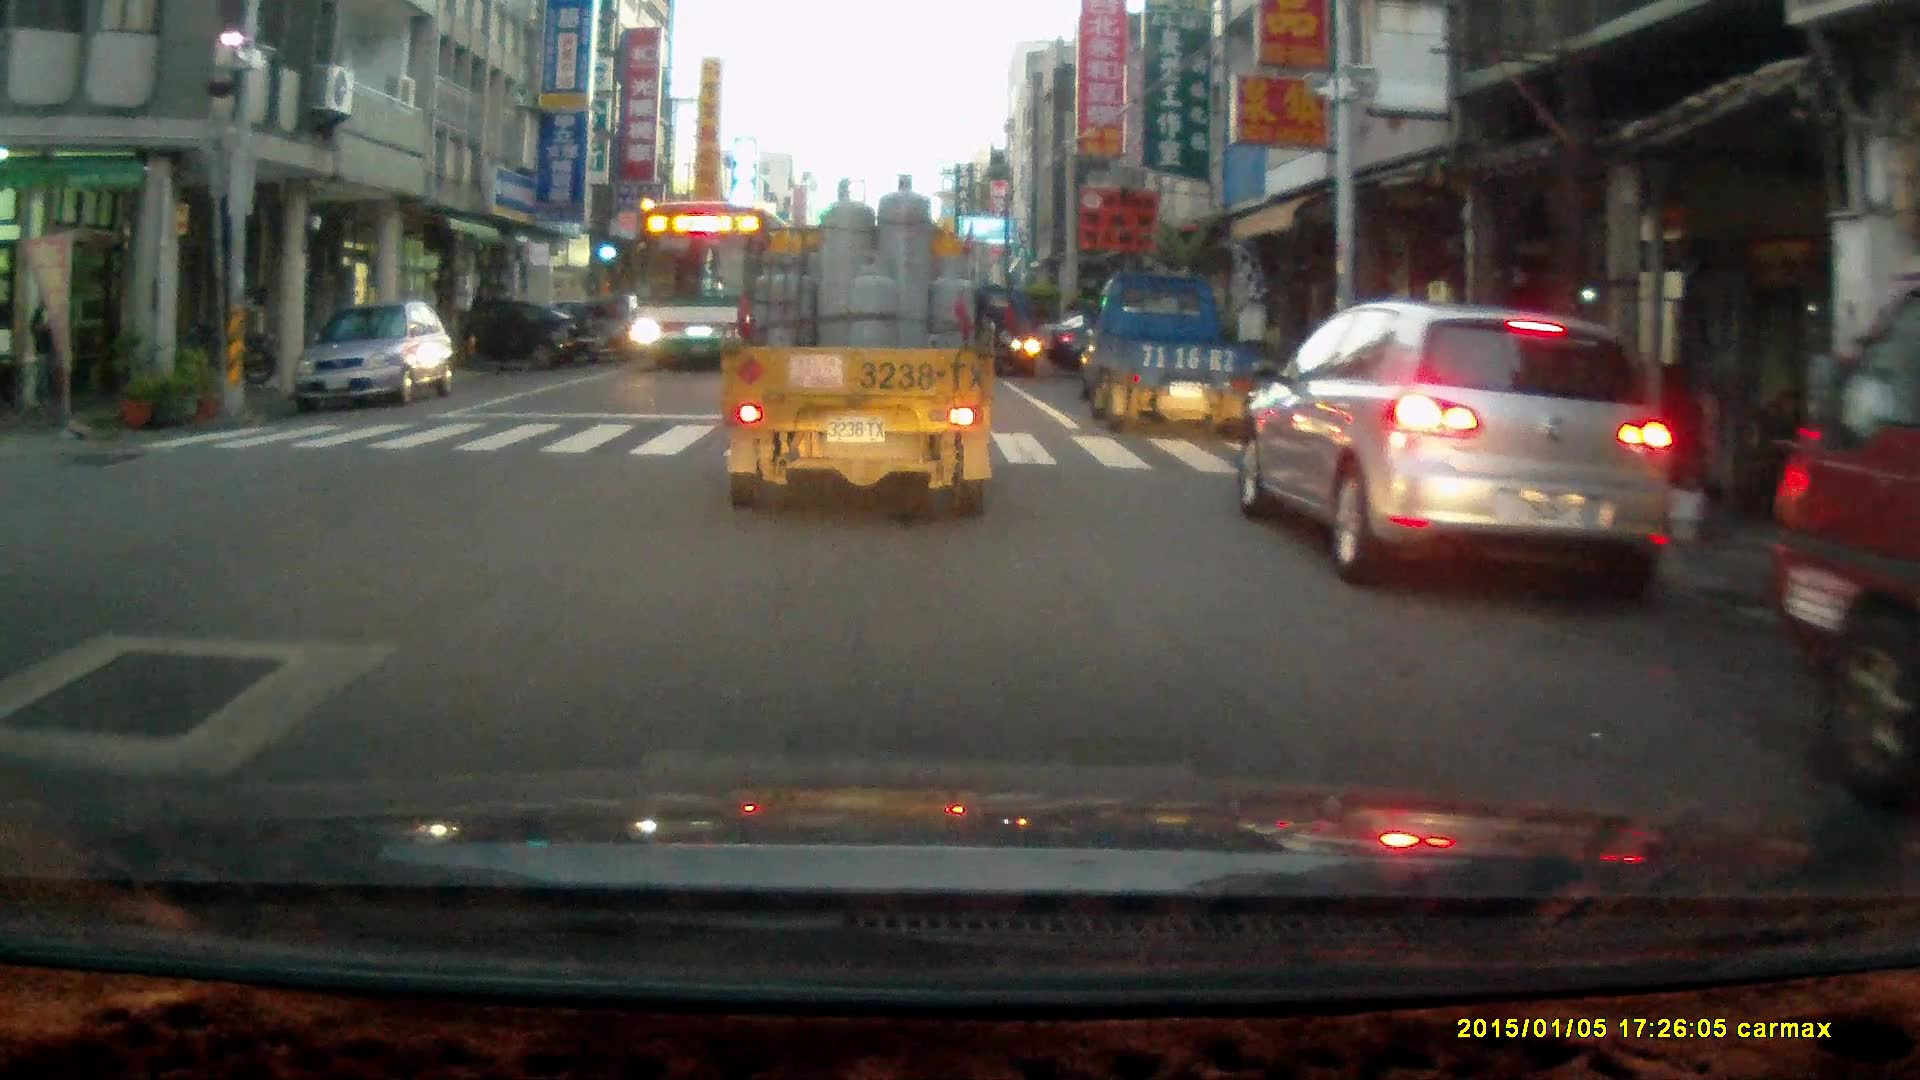pedestrian: (28, 281, 62, 418), (996, 293, 1021, 372)
vehicle: (1240, 299, 1675, 599), (726, 171, 994, 520), (1760, 295, 1920, 715), (1077, 267, 1253, 432), (622, 202, 785, 377), (289, 301, 459, 416), (393, 297, 594, 371), (569, 294, 666, 365)
